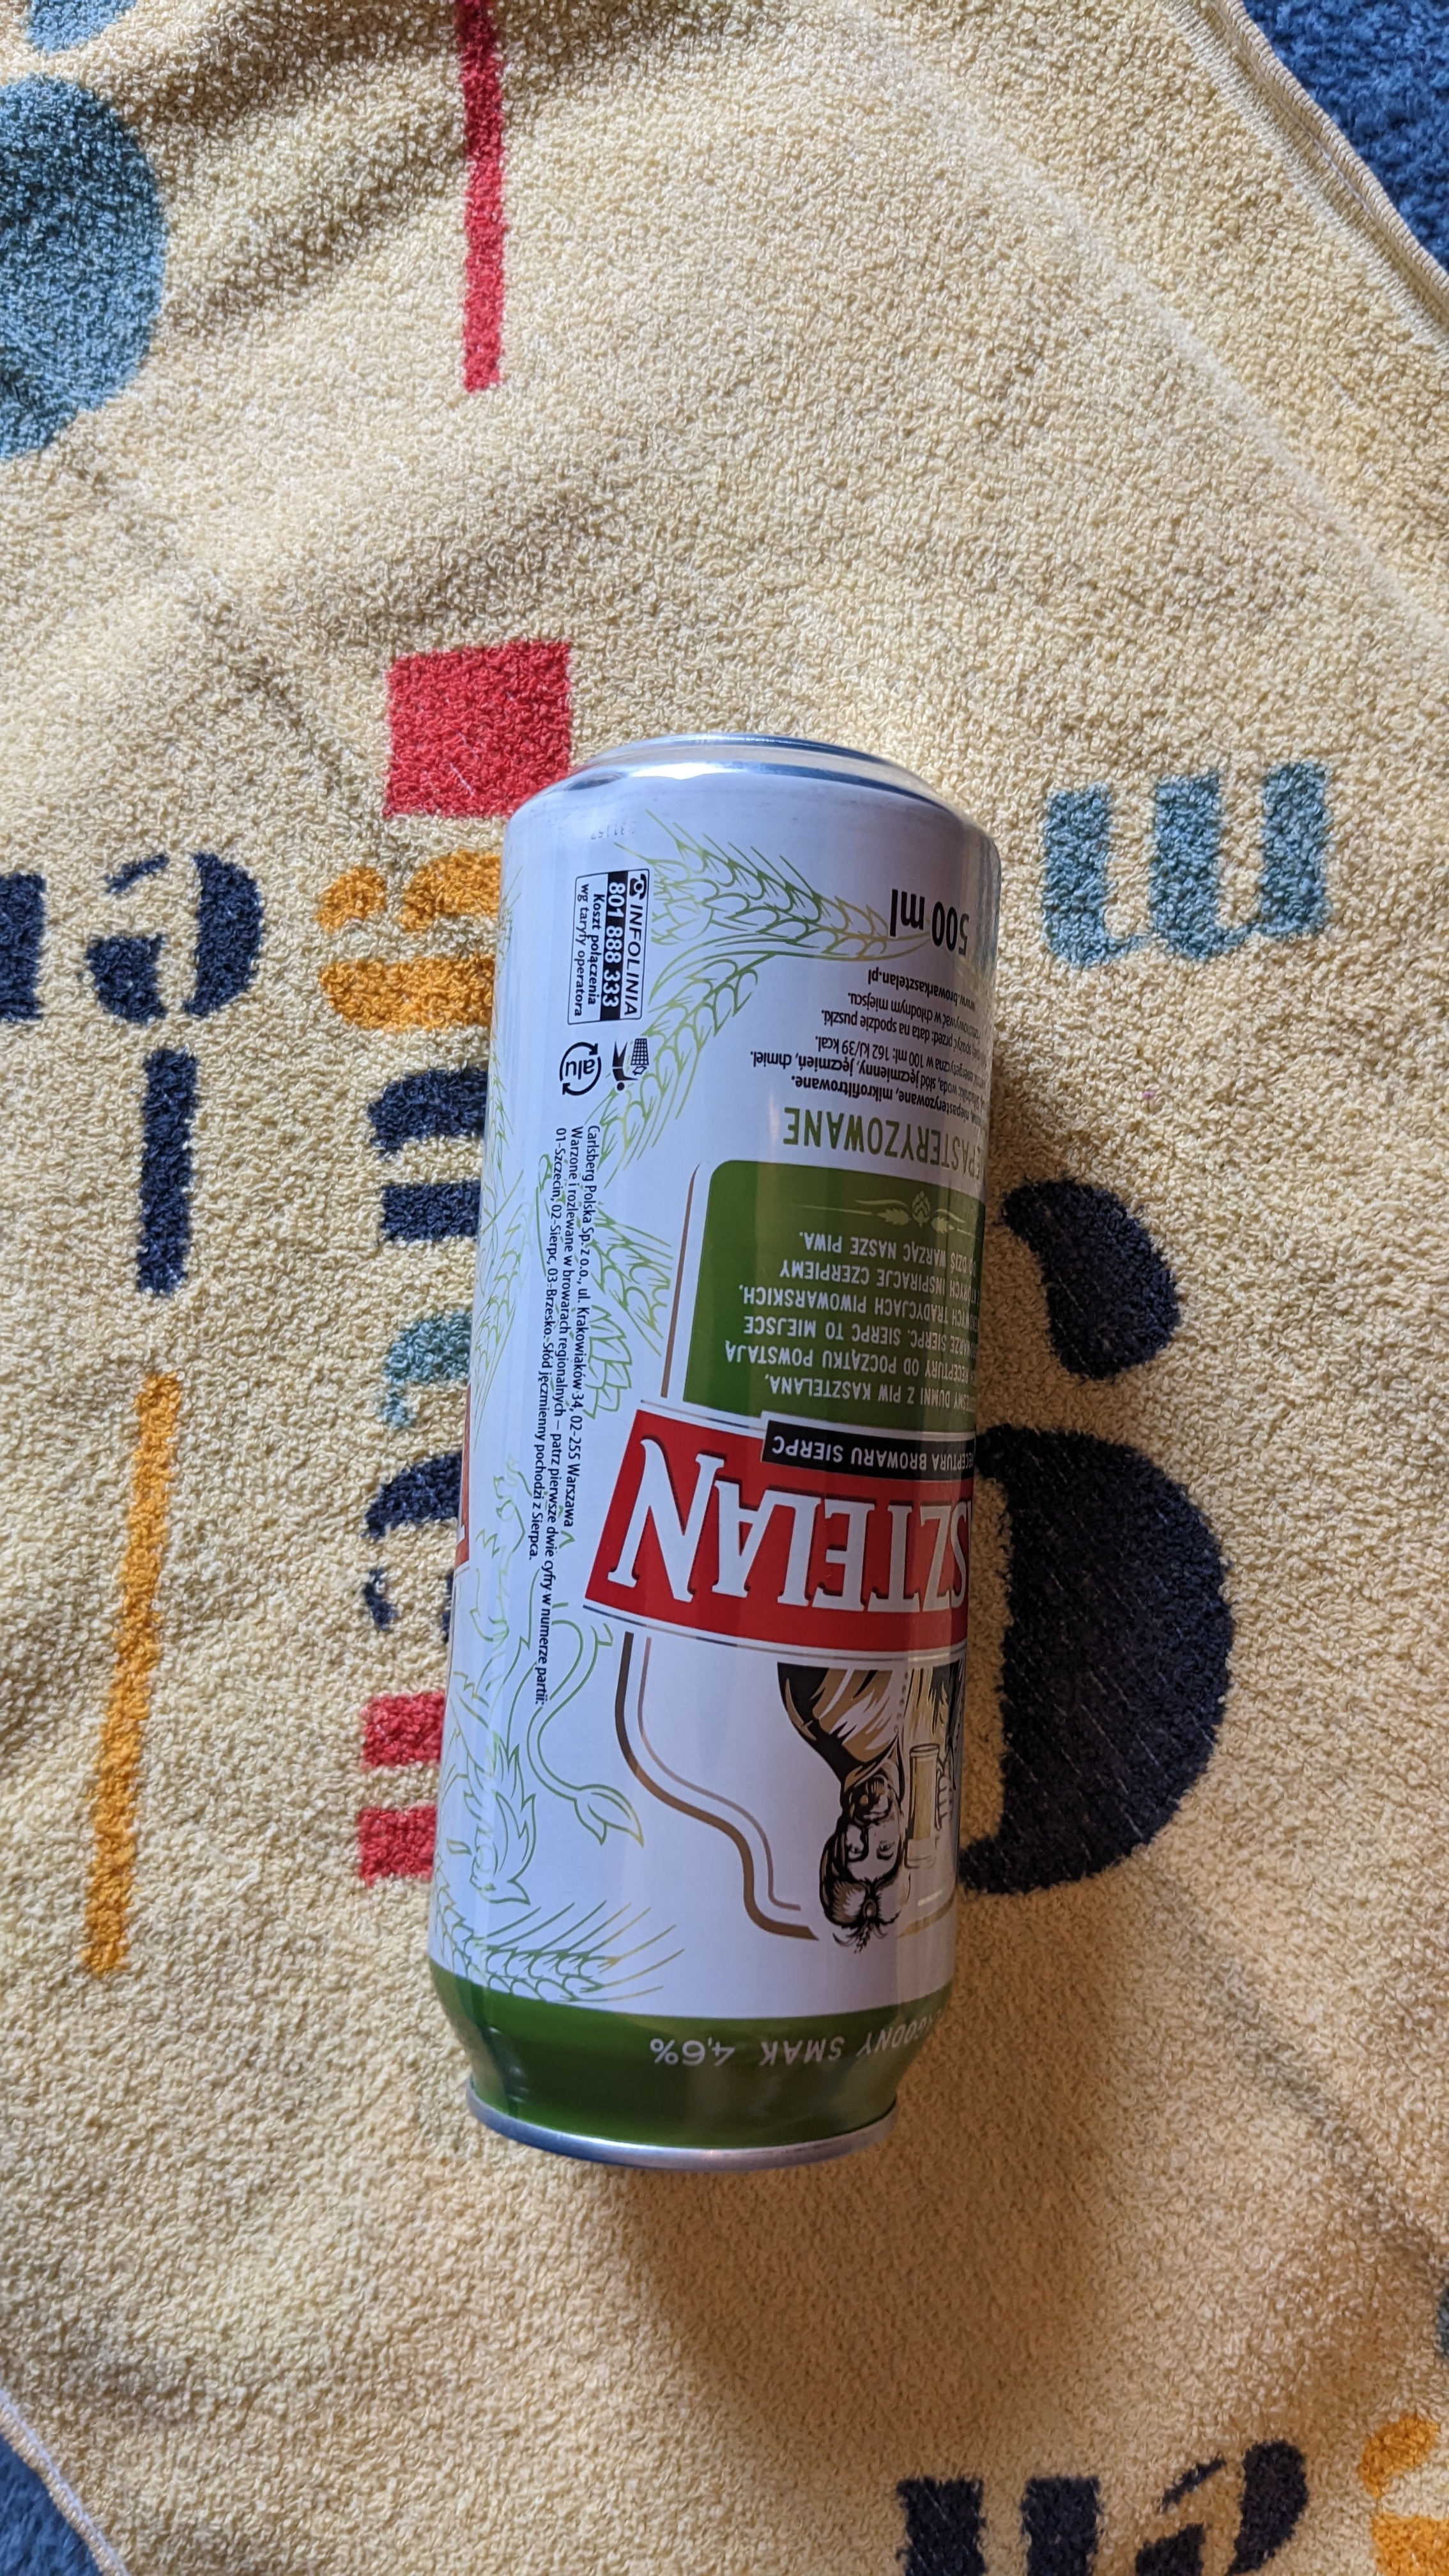kasztelan: (474, 727, 991, 2181)
